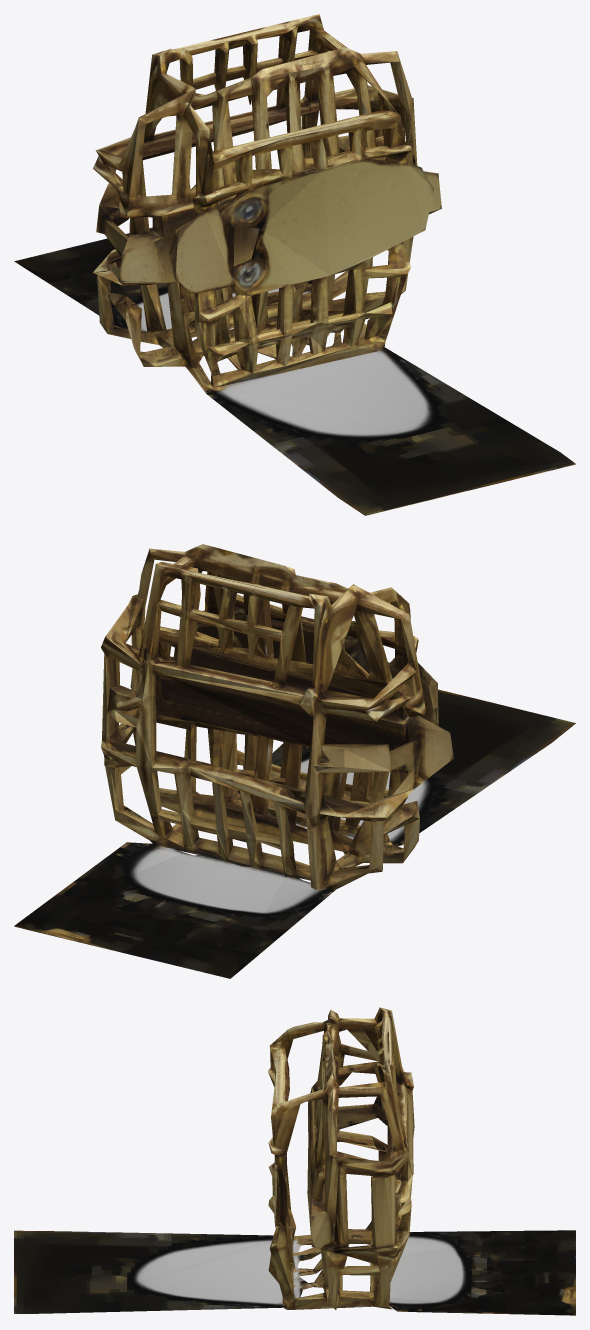
Rendered from ball-gate.glb.
The picture shows the model from 3 angles, top to bottom: view 1: azimuth 30°, elevation 25°; view 2: azimuth 150°, elevation 25°; view 3: azimuth 270°, elevation 25°; orthographic projection. The views are drawn at different scales.
Visible parts, largest first — view 1: world; view 2: world; view 3: world.
Boxes of the visible parts, left/top/right/bottom form: world: left=14, top=14, right=575, bottom=515; world: left=14, top=544, right=575, bottom=978; world: left=14, top=1007, right=575, bottom=1315.
Size of the model in its own units: 10.72 by 9.46 by 20.
1 material, 1 textured.
